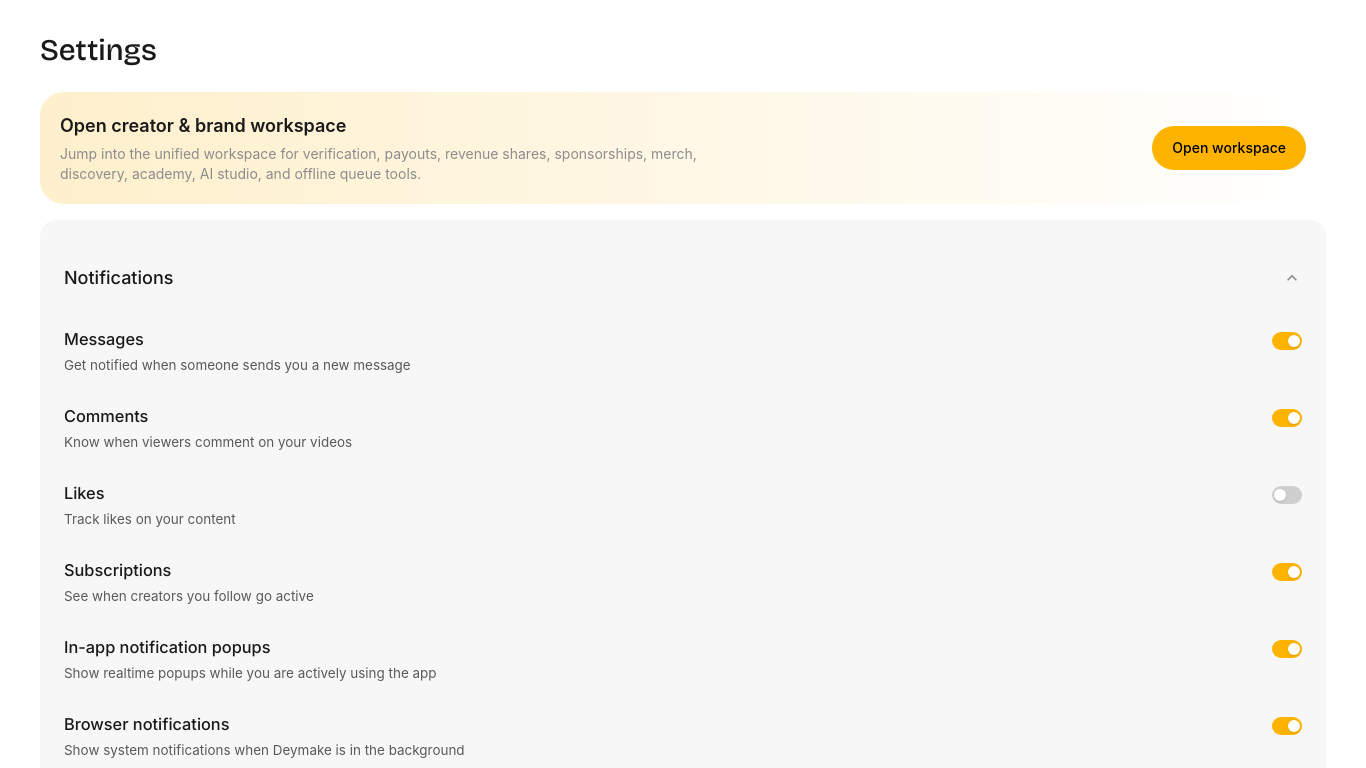
it: Settings › loads preferences and persists notification changes
The width and height of the screenshot is (1366, 768).
What coordinates should you click on to do the following:
click the 3rd switch
I would click on:
 (1287, 495)
Its box is top-left (1272, 486), bottom-right (1302, 504).
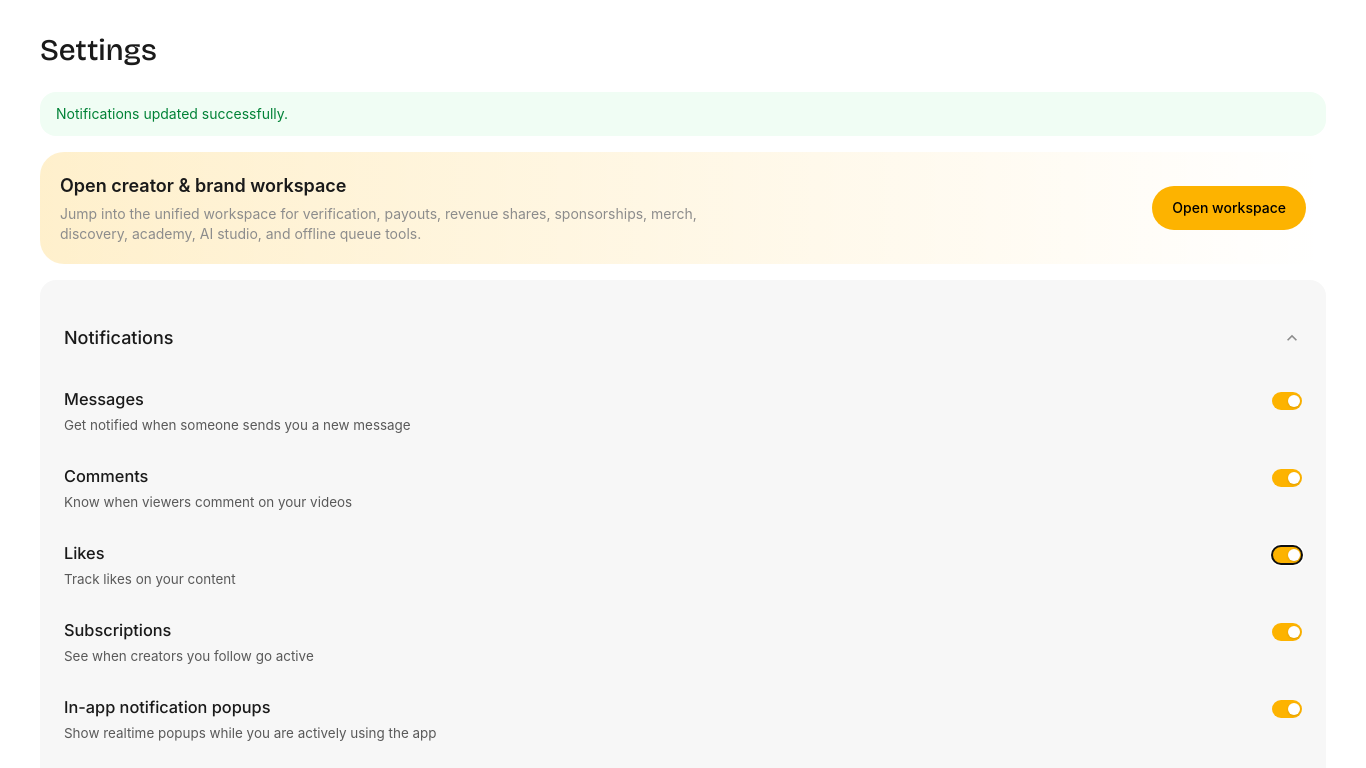
Check: the text "Notifications updated successfully." is shown, box top-left (40, 92), bottom-right (1326, 136)
